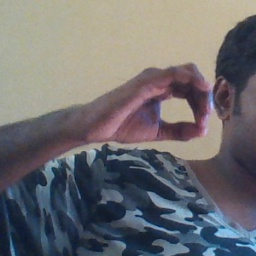O: (96, 60, 215, 152)
